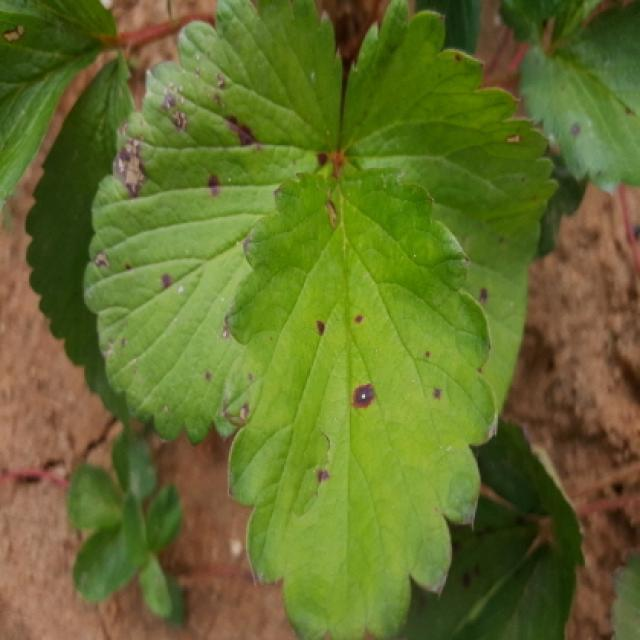Leaf Spot: (220, 160, 498, 638), (82, 0, 344, 447), (341, 0, 563, 431), (514, 3, 638, 196)
